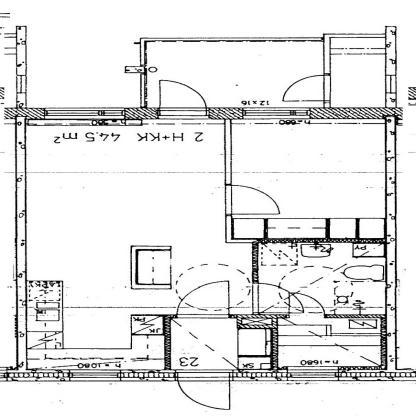bathroom: (254, 241, 381, 368)
door: (170, 366, 240, 414), (155, 78, 215, 124), (172, 279, 240, 319), (219, 181, 284, 220), (249, 281, 307, 320), (275, 71, 336, 104), (280, 291, 332, 320)
perimeter: (22, 112, 394, 376)
window: (232, 106, 317, 127), (40, 105, 133, 124), (63, 366, 131, 384), (281, 365, 352, 381), (382, 72, 402, 96)
